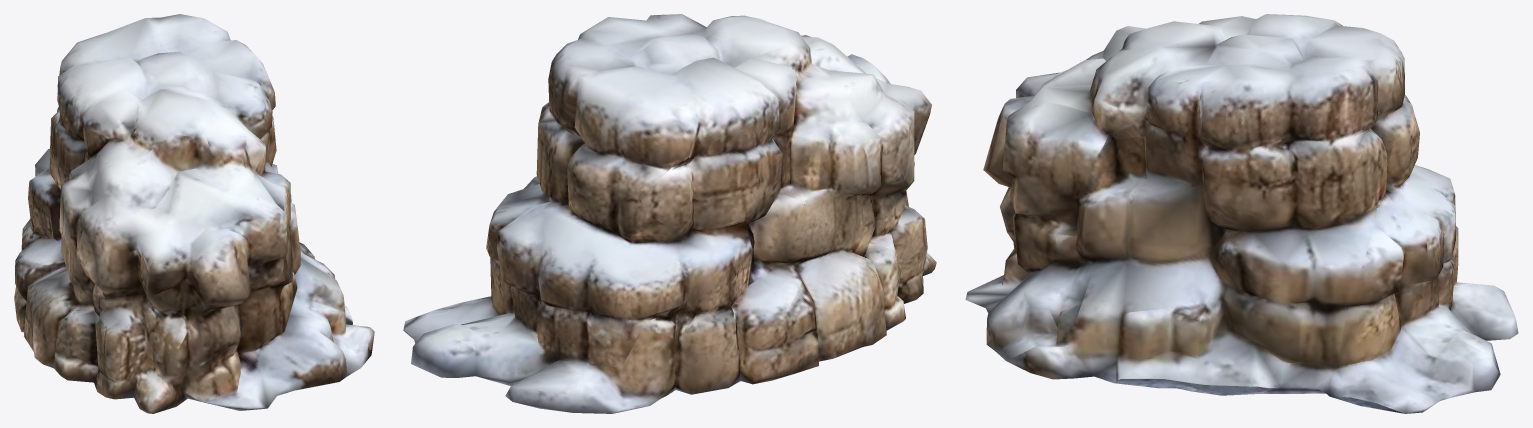
The model's file is dio_rock.glb.
The picture shows the model from 3 angles, left to right: view 1: azimuth 30°, elevation 25°; view 2: azimuth 150°, elevation 25°; view 3: azimuth 270°, elevation 25°; orthographic projection. The views are drawn at different scales.
Parts seen in each view (by area): view 1: tripo_part_2; view 2: tripo_part_2; view 3: tripo_part_2.
Part boxes in pixels (left/top/right/bottom): tripo_part_2: left=14, top=14, right=374, bottom=413; tripo_part_2: left=403, top=14, right=936, bottom=413; tripo_part_2: left=965, top=14, right=1518, bottom=413.
Size of the model in its own units: 0.2002 by 0.1428 by 0.253.
1 material, 1 textured.
